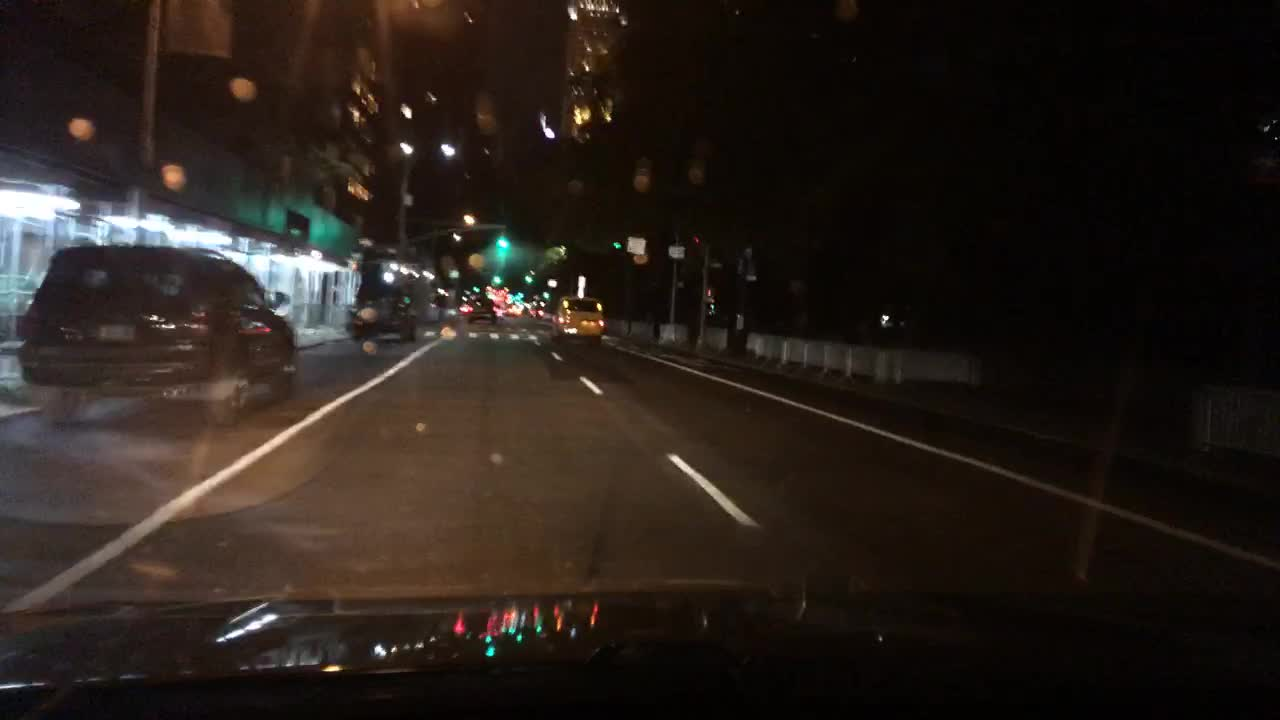car: (11, 243, 303, 427), (341, 284, 419, 343), (549, 293, 607, 342), (458, 295, 501, 325)
person: (354, 292, 379, 359)
traffic light: (495, 231, 510, 254), (488, 270, 504, 289), (610, 237, 621, 252), (692, 234, 704, 246)
